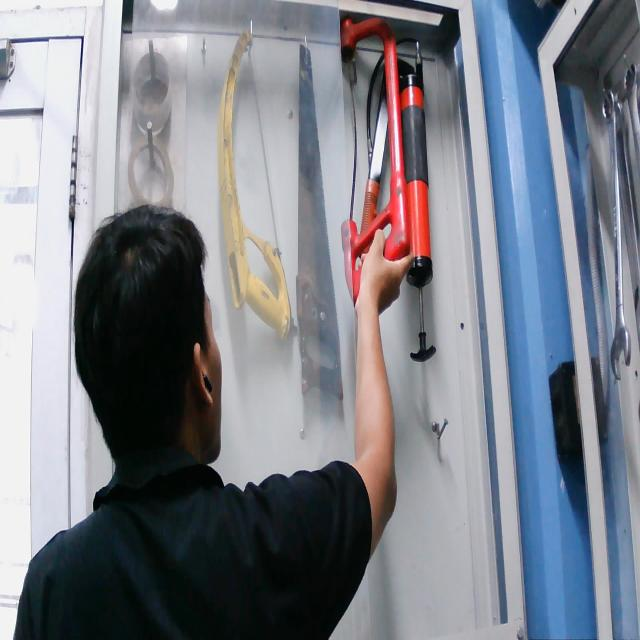gergaji_besi: (338, 8, 412, 324)
